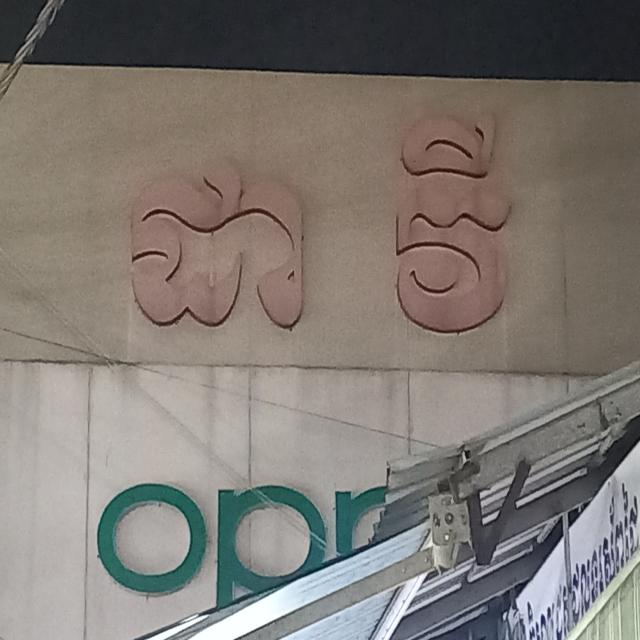Yolov11kh: (114, 109, 543, 369)
